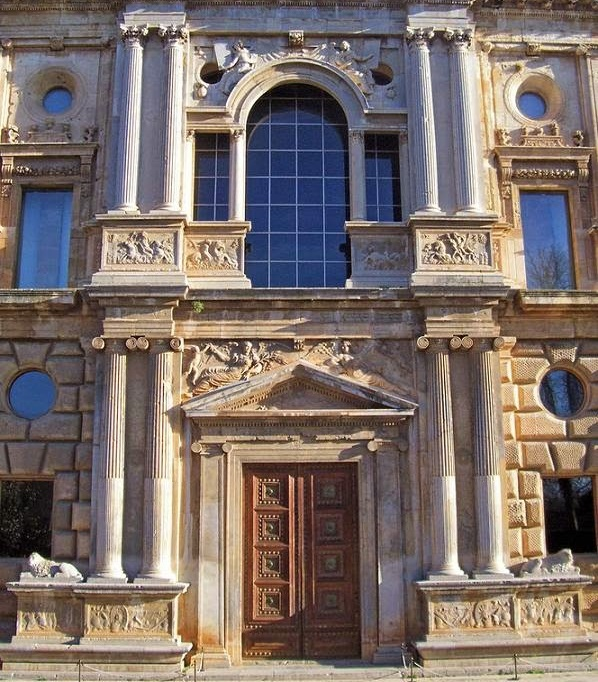fronton: (177, 358, 423, 432)
ojo-de-buey: (1, 358, 68, 425), (530, 357, 597, 424), (509, 75, 557, 122), (36, 77, 75, 117)
serliana: (186, 54, 413, 231)
vano-adintelado: (218, 433, 381, 669), (7, 172, 85, 294), (509, 178, 588, 294)
